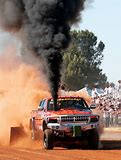smoke: (1, 1, 83, 100)
